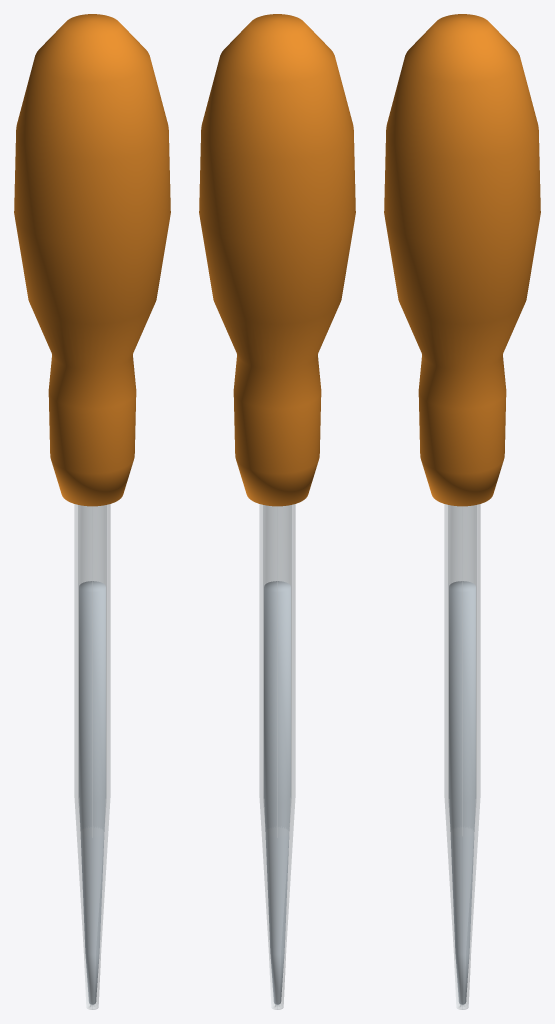
The model's file is Dropper.fbx.
3 views of the same model, side by side, from view 1: azimuth 30°, elevation 25°; view 2: azimuth 150°, elevation 25°; view 3: azimuth 270°, elevation 25° (orthographic).
Visible parts, largest first — view 1: Dropper_Bulb, Dropper_Glass, Dropper_Liquid; view 2: Dropper_Bulb, Dropper_Glass, Dropper_Liquid; view 3: Dropper_Bulb, Dropper_Glass, Dropper_Liquid.
Part boxes in pixels (x1,y1,x2,y2): Dropper_Bulb: [14, 14, 170, 506]; Dropper_Glass: [74, 504, 110, 1009]; Dropper_Liquid: [79, 581, 105, 1004]; Dropper_Bulb: [199, 14, 355, 506]; Dropper_Glass: [259, 504, 295, 1009]; Dropper_Liquid: [264, 581, 290, 1004]; Dropper_Bulb: [384, 14, 540, 506]; Dropper_Glass: [444, 504, 480, 1009]; Dropper_Liquid: [449, 581, 475, 1004].
Size of the model in its own units: 0.0304 by 0.211 by 0.0304.
